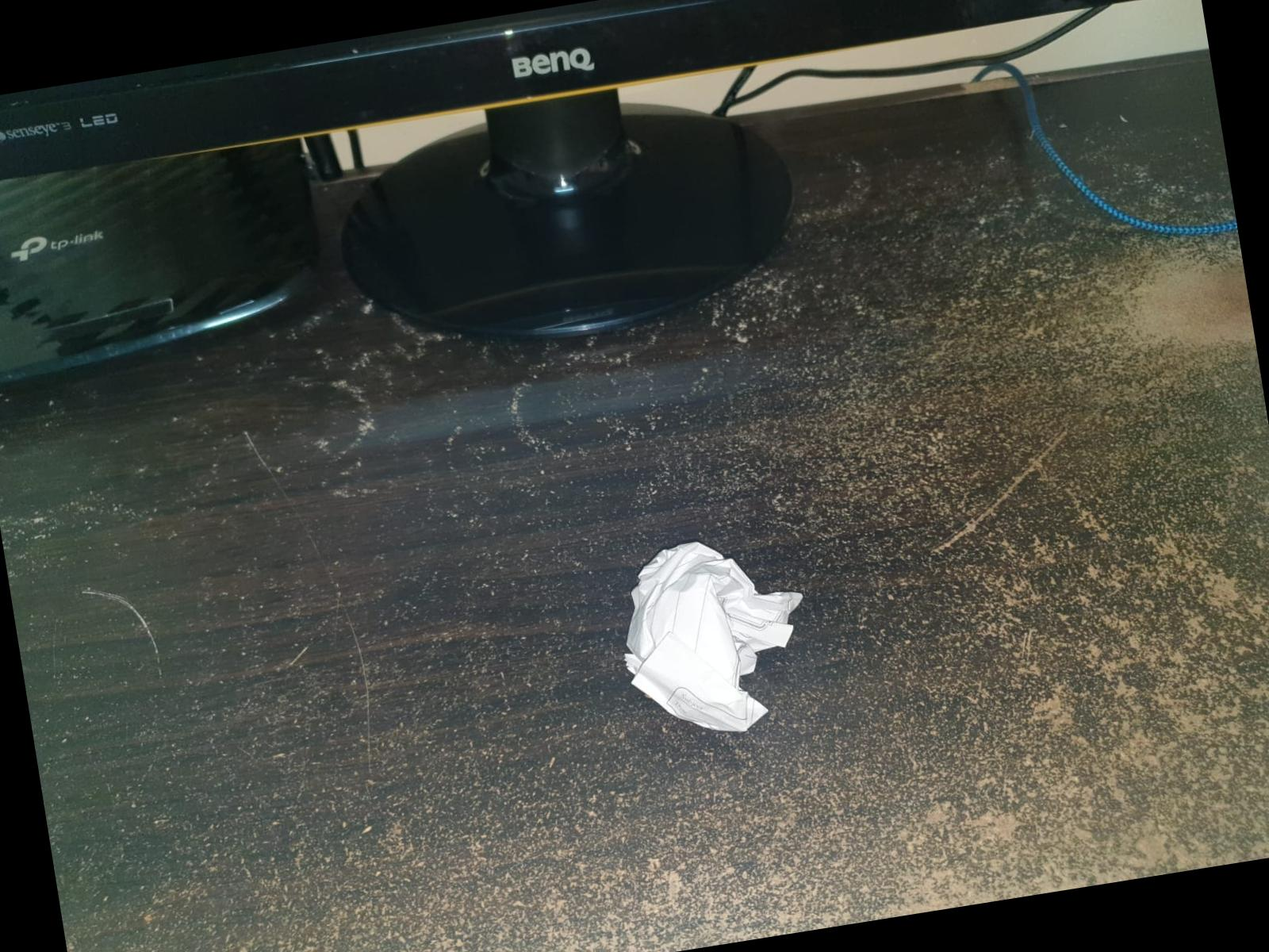Kertas: (625, 541, 801, 732)
